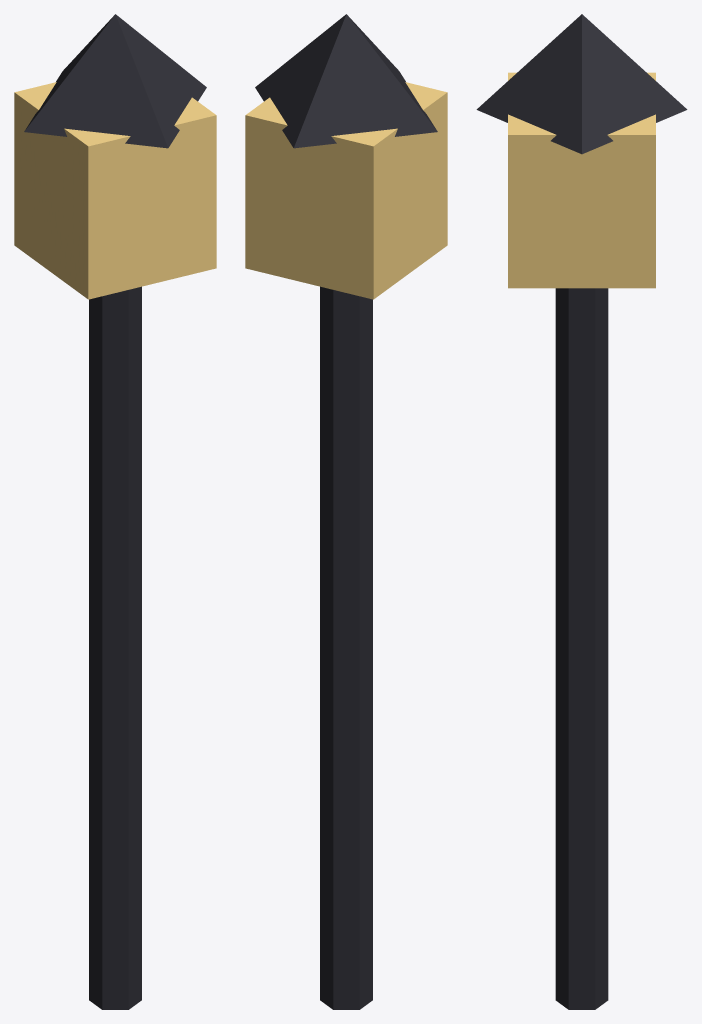
File: Lamp.fbx
3 renders of one model, left to right at view 1: azimuth 30°, elevation 25°; view 2: azimuth 150°, elevation 25°; view 3: azimuth 270°, elevation 25°, orthographic.
Visible parts, largest first — view 1: Lamp; view 2: Lamp; view 3: Lamp.
Boxes of the visible parts, box(x1,y1,x2,y2) form: Lamp: box(14, 14, 216, 1009); Lamp: box(245, 14, 447, 1009); Lamp: box(476, 14, 687, 1009).
Size of the model in its own units: 2 by 10.3 by 2.
Materials: 1 (1 with a texture image).
